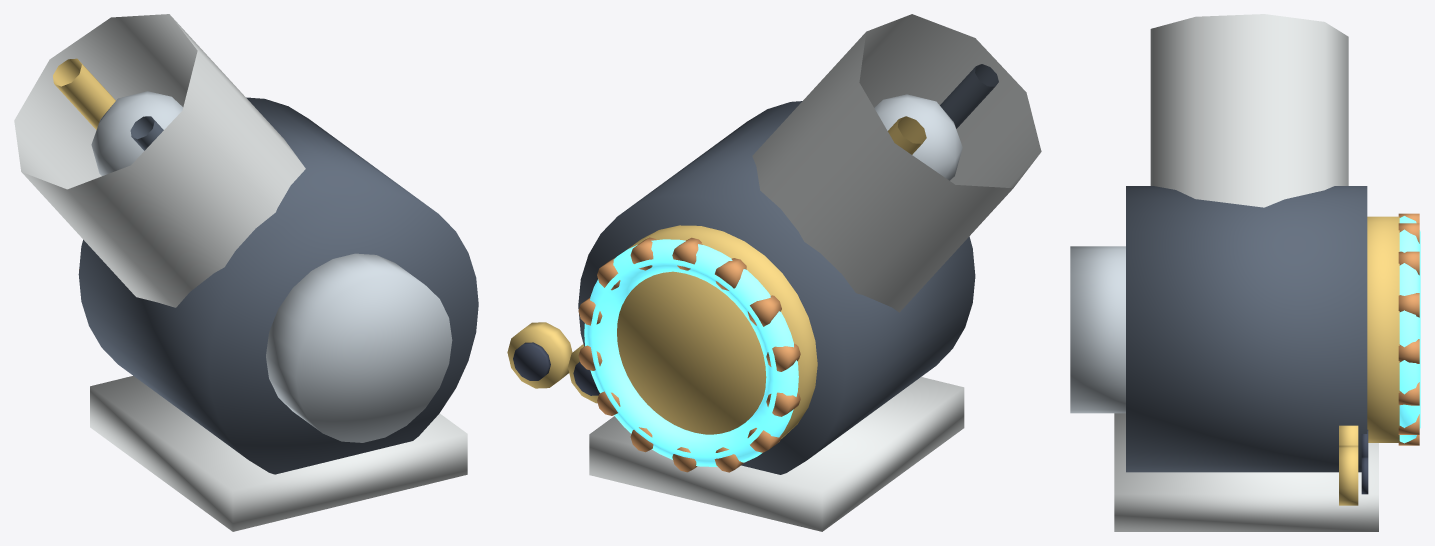
Rendered from L86_08_RobotJoint1BaseYaw_Fitted.fbx.
3 renders of one model, left to right at view 1: azimuth 30°, elevation 25°; view 2: azimuth 150°, elevation 25°; view 3: azimuth 270°, elevation 25°, orthographic. The views are drawn at different scales.
Parts seen in each view (by area): view 1: L86_RobotJoint1BaseYaw_ANIM_ROBOT_BASE_ROTATE__tintD9E0E0, L86_RobotJoint1BaseYaw_ANIM_ROBOT_BASE_ROTATE__tint1F2633, L86_RobotJoint1BaseYaw_ANIM_ROBOT_BASE_ROTATE__tintA1B2C2, L86_RobotJoint1BaseYaw_ANIM_ROBOT_BASE_ROTATE__tintF2B038; view 2: L86_RobotJoint1BaseYaw_ANIM_ROBOT_BASE_ROTATE__tintD9E0E0, L86_RobotJoint1BaseYaw_ANIM_ROBOT_BASE_ROTATE__tint1F2633, L86_RobotJoint1BaseYaw_ANIM_ROBOT_BASE_ROTATE__tintF2B038, L86_RobotJoint1BaseYaw_ANIM_ROBOT_BASE_ROTATE__tint29D4F5, L86_RobotJoint1BaseYaw_ANIM_ROBOT_BASE_ROTATE__tintD46326, L86_RobotJoint1BaseYaw_ANIM_ROBOT_BASE_ROTATE__tintA1B2C2, L86_RobotJoint1BaseYaw_Static__tintF2B038, L86_RobotJoint1BaseYaw_Static__tint0F141F; view 3: L86_RobotJoint1BaseYaw_ANIM_ROBOT_BASE_ROTATE__tint1F2633, L86_RobotJoint1BaseYaw_ANIM_ROBOT_BASE_ROTATE__tintD9E0E0, L86_RobotJoint1BaseYaw_ANIM_ROBOT_BASE_ROTATE__tintA1B2C2, L86_RobotJoint1BaseYaw_ANIM_ROBOT_BASE_ROTATE__tintF2B038, L86_RobotJoint1BaseYaw_ANIM_ROBOT_BASE_ROTATE__tint29D4F5, L86_RobotJoint1BaseYaw_ANIM_ROBOT_BASE_ROTATE__tintD46326, L86_RobotJoint1BaseYaw_Static__tintF2B038, L86_RobotJoint1BaseYaw_Static__tint0F141F.
Part boxes in pixels (<box>): L86_RobotJoint1BaseYaw_ANIM_ROBOT_BASE_ROTATE__tintD9E0E0: <box>14,14,467,531</box>; L86_RobotJoint1BaseYaw_ANIM_ROBOT_BASE_ROTATE__tint1F2633: <box>78,97,478,474</box>; L86_RobotJoint1BaseYaw_ANIM_ROBOT_BASE_ROTATE__tintA1B2C2: <box>91,91,452,442</box>; L86_RobotJoint1BaseYaw_ANIM_ROBOT_BASE_ROTATE__tintF2B038: <box>53,58,115,129</box>; L86_RobotJoint1BaseYaw_ANIM_ROBOT_BASE_ROTATE__tintD9E0E0: <box>589,14,1041,531</box>; L86_RobotJoint1BaseYaw_ANIM_ROBOT_BASE_ROTATE__tint1F2633: <box>578,64,998,474</box>; L86_RobotJoint1BaseYaw_ANIM_ROBOT_BASE_ROTATE__tintF2B038: <box>617,116,926,439</box>; L86_RobotJoint1BaseYaw_ANIM_ROBOT_BASE_ROTATE__tint29D4F5: <box>584,239,798,466</box>; L86_RobotJoint1BaseYaw_ANIM_ROBOT_BASE_ROTATE__tintD46326: <box>578,237,800,472</box>; L86_RobotJoint1BaseYaw_ANIM_ROBOT_BASE_ROTATE__tintA1B2C2: <box>874,94,962,180</box>; L86_RobotJoint1BaseYaw_Static__tintF2B038: <box>507,322,598,403</box>; L86_RobotJoint1BaseYaw_Static__tint0F141F: <box>513,342,599,395</box>; L86_RobotJoint1BaseYaw_ANIM_ROBOT_BASE_ROTATE__tint1F2633: <box>1126,186,1367,472</box>; L86_RobotJoint1BaseYaw_ANIM_ROBOT_BASE_ROTATE__tintD9E0E0: <box>1114,14,1378,531</box>; L86_RobotJoint1BaseYaw_ANIM_ROBOT_BASE_ROTATE__tintA1B2C2: <box>1070,246,1125,413</box>; L86_RobotJoint1BaseYaw_ANIM_ROBOT_BASE_ROTATE__tintF2B038: <box>1367,216,1399,442</box>; L86_RobotJoint1BaseYaw_ANIM_ROBOT_BASE_ROTATE__tint29D4F5: <box>1399,216,1420,443</box>; L86_RobotJoint1BaseYaw_ANIM_ROBOT_BASE_ROTATE__tintD46326: <box>1398,213,1419,445</box>; L86_RobotJoint1BaseYaw_Static__tintF2B038: <box>1339,425,1358,505</box>; L86_RobotJoint1BaseYaw_Static__tint0F141F: <box>1361,429,1368,494</box>.
Size of the model in its own units: 10.13 by 9.59 by 7.25.
